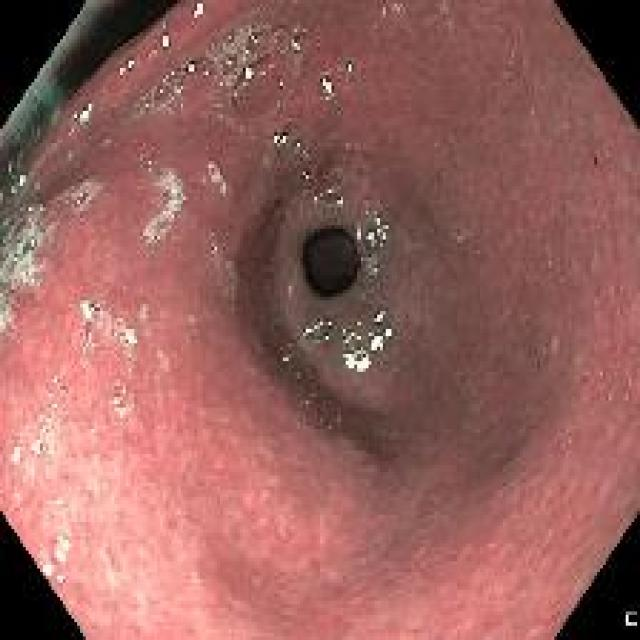bubbles: (0, 197, 56, 335), (227, 47, 291, 122), (137, 153, 186, 248), (232, 12, 310, 55), (71, 293, 106, 356), (108, 308, 138, 370), (62, 173, 107, 212), (209, 26, 241, 80), (152, 65, 187, 107), (203, 159, 237, 201), (107, 382, 134, 409), (129, 94, 154, 118), (206, 239, 222, 263), (297, 165, 313, 186), (349, 343, 366, 362), (38, 419, 53, 437), (57, 377, 71, 396), (47, 397, 61, 414)
color misalignment: (1, 88, 73, 132), (17, 59, 111, 88), (58, 25, 142, 56), (0, 131, 54, 176), (74, 1, 174, 25)
contrast: (300, 227, 359, 298)
saturation: (2, 387, 180, 639)
specularity: (41, 531, 74, 586), (341, 343, 371, 377), (299, 316, 333, 346), (367, 327, 397, 357), (368, 213, 388, 251), (76, 98, 96, 125), (317, 72, 334, 99), (190, 2, 209, 24), (118, 56, 136, 77), (369, 309, 387, 324), (159, 31, 173, 49), (341, 325, 355, 343), (272, 131, 287, 146), (240, 65, 254, 81), (29, 438, 44, 452), (10, 445, 21, 464), (84, 329, 96, 346), (185, 60, 196, 77), (345, 58, 354, 78), (17, 172, 29, 187), (282, 355, 292, 372), (331, 195, 342, 210), (290, 38, 301, 52), (94, 319, 104, 333), (55, 494, 66, 506), (201, 69, 211, 80), (112, 395, 121, 407), (294, 141, 302, 154), (46, 445, 56, 455), (276, 78, 284, 88), (120, 385, 128, 394), (311, 195, 318, 205), (50, 400, 58, 408), (328, 186, 335, 194), (41, 424, 47, 432), (276, 27, 282, 33)
